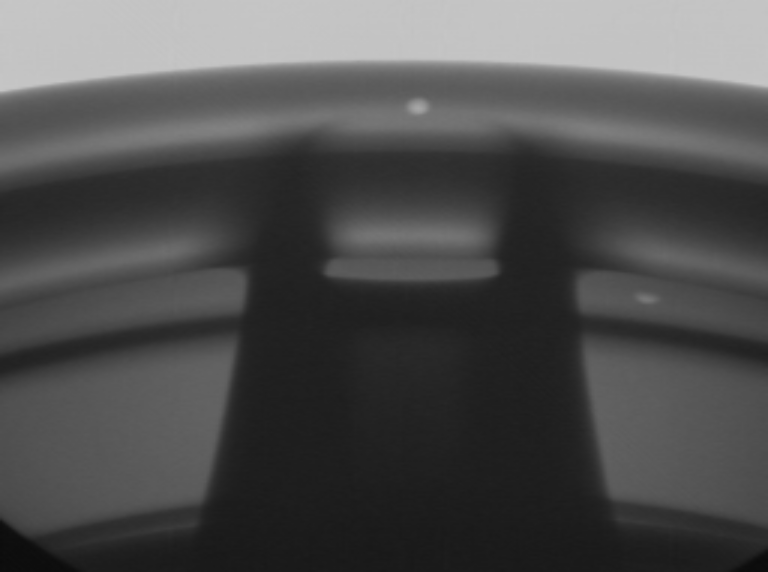defect: (408, 96, 432, 116)
